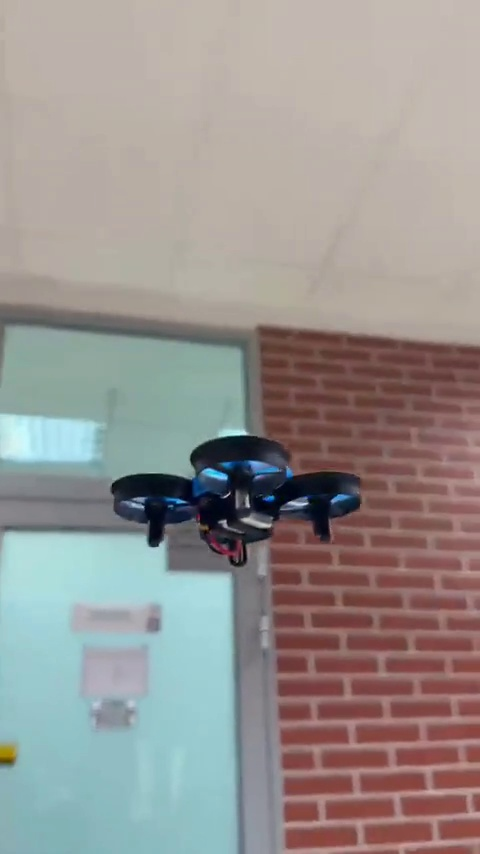drone: (110, 434, 364, 569)
